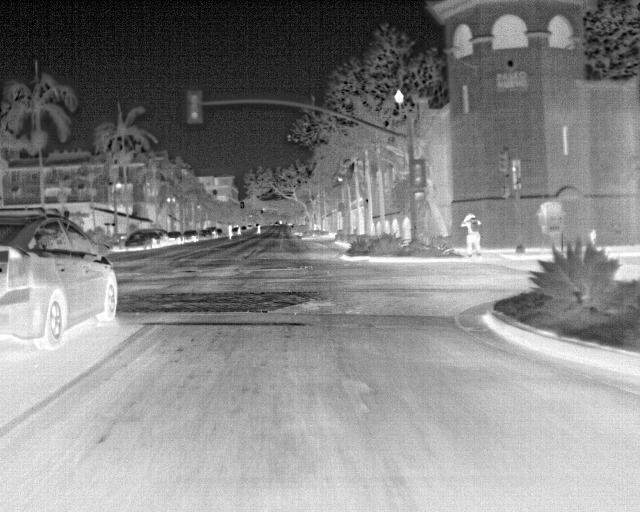bicycle: (0, 211, 120, 352), (125, 230, 152, 249), (164, 229, 182, 242), (181, 228, 196, 241)
empty: (461, 213, 484, 260)
